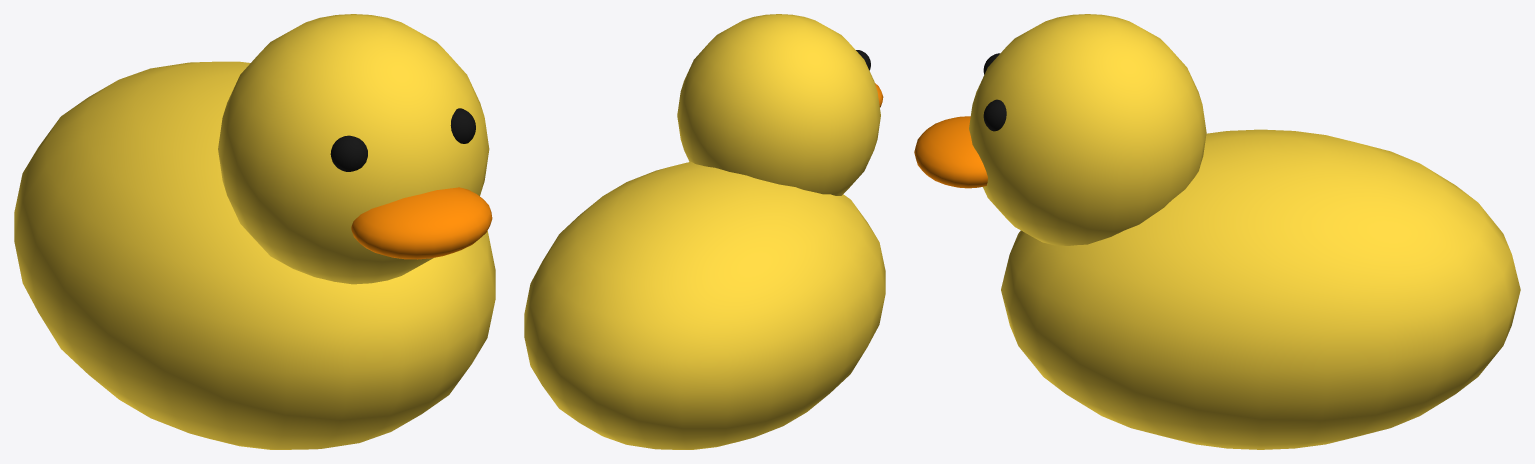
The model's file is Deco_RubberDuck.fbx.
The picture shows the model from 3 angles, left to right: view 1: azimuth 30°, elevation 25°; view 2: azimuth 150°, elevation 25°; view 3: azimuth 270°, elevation 25°; orthographic projection. The views are drawn at different scales.
Visible parts, largest first — view 1: Deco_RubberDuck; view 2: Deco_RubberDuck; view 3: Deco_RubberDuck.
Part boxes in pixels (x1=…): Deco_RubberDuck: x1=14, y1=14, x2=495, y2=449; Deco_RubberDuck: x1=524, y1=14, x2=885, y2=449; Deco_RubberDuck: x1=914, y1=14, x2=1520, y2=449.
Bounding box in the file's own units: 0.18 × 0.205 × 0.28.
